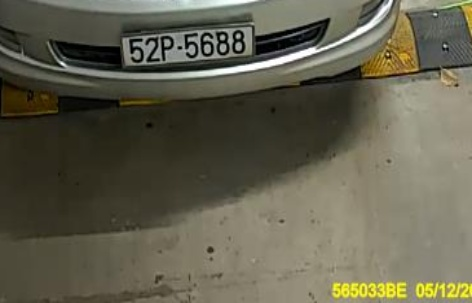plate: (113, 15, 256, 68)
